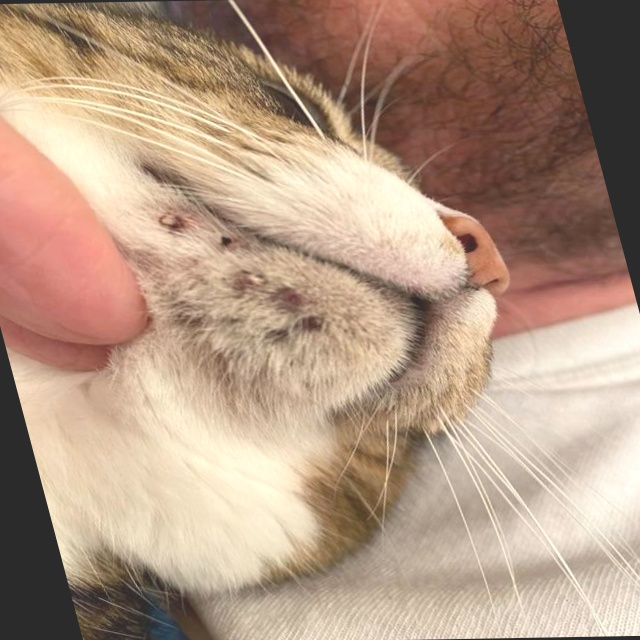acne: (131, 206, 364, 364)
